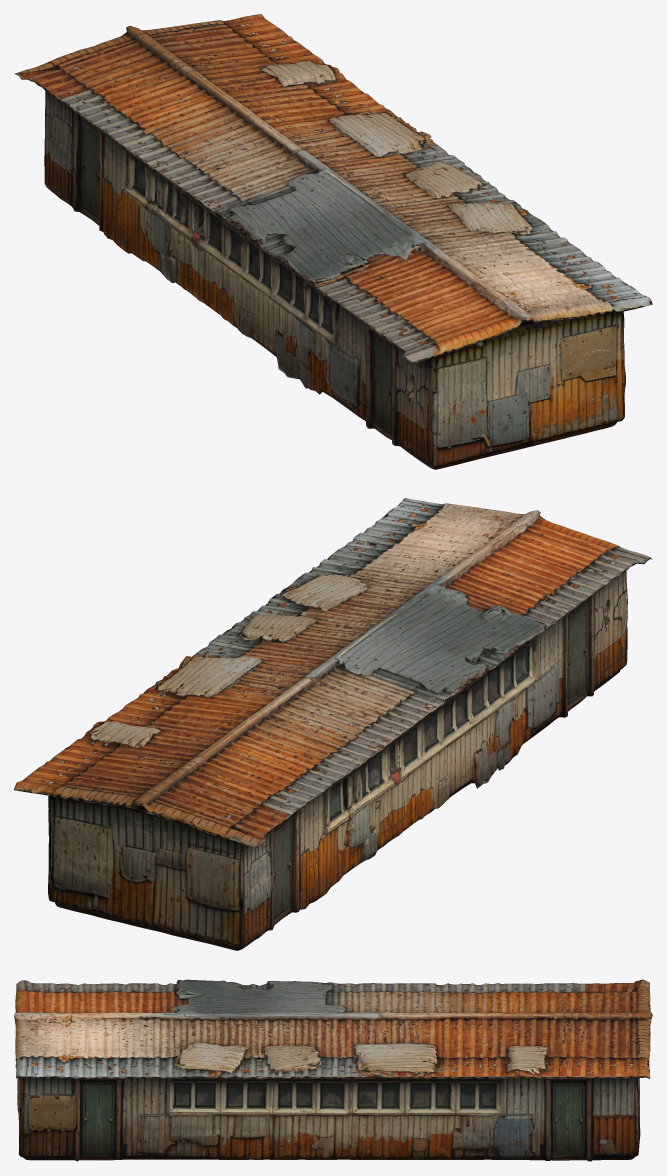
The model's file is Settle_Barracks.fbx.
3 views of the same model, one above another, from view 1: azimuth 30°, elevation 25°; view 2: azimuth 150°, elevation 25°; view 3: azimuth 270°, elevation 25° (orthographic). The views are drawn at different scales.
Parts seen in each view (by area): view 1: texture_mapping; view 2: texture_mapping; view 3: texture_mapping.
Boxes of the visible parts, bbox=[...] form: texture_mapping: bbox=[14, 14, 652, 469]; texture_mapping: bbox=[14, 498, 652, 950]; texture_mapping: bbox=[14, 979, 652, 1161].
Size of the model in its own units: 0.3548 by 0.9998 by 0.1992.
Materials: 1 (1 with a texture image).
